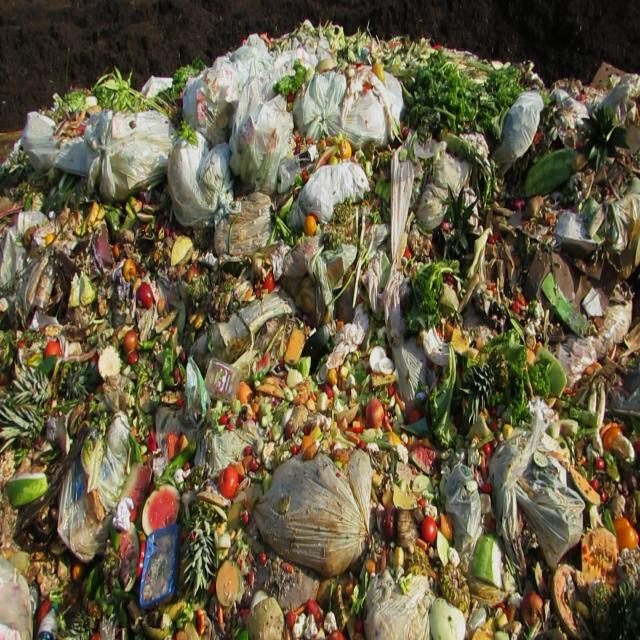Food -Biodegradable-: (0, 31, 640, 640)
